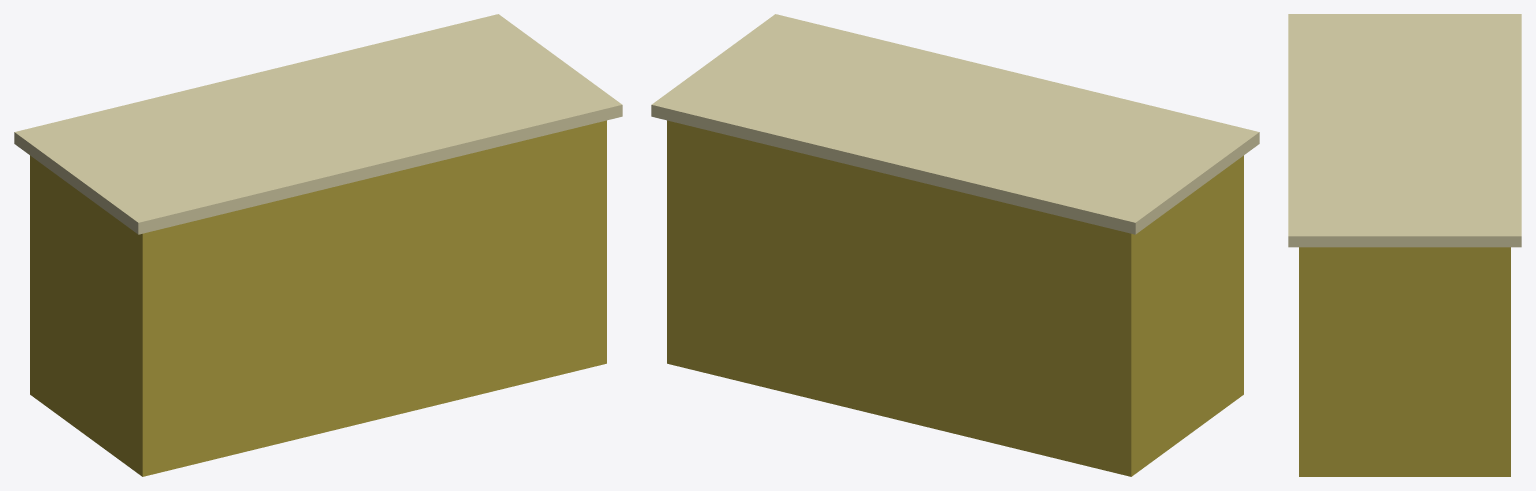
The model's file is Island.fbx.
The picture shows the model from 3 angles, left to right: view 1: azimuth 30°, elevation 25°; view 2: azimuth 150°, elevation 25°; view 3: azimuth 270°, elevation 25°; orthographic projection. The views are drawn at different scales.
Visible parts, largest first — view 1: Island; view 2: Island; view 3: Island.
Boxes of the visible parts, box(x1,y1,x2,y2) form: Island: box(14, 14, 622, 476); Island: box(651, 14, 1259, 476); Island: box(1288, 14, 1521, 476).
Size of the model in its own units: 202 by 104 by 89.43.
